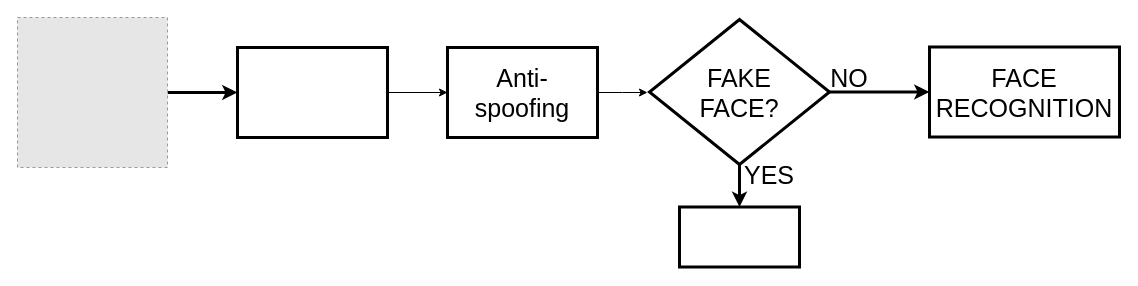
Image size: 1138x286. Some labels were removed from this diagram. Grey dashed boxes stand in for pictures. Here are the shapes that lost their labels. From the top down, the box of each, then its label:
(236, 46, 388, 138): FACE DETECTION
(678, 205, 800, 268): Fakeness
